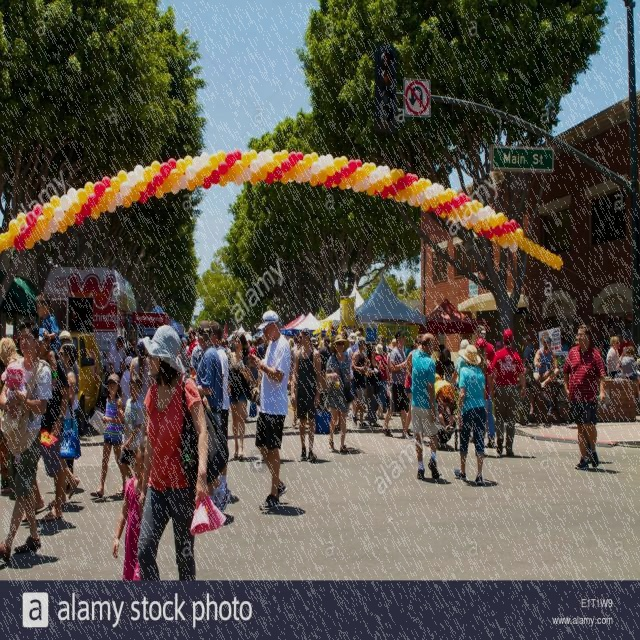pessoa: (136, 326, 210, 582), (0, 319, 53, 566), (20, 326, 70, 524), (248, 309, 296, 512), (194, 322, 232, 514), (562, 324, 607, 474), (112, 440, 152, 582), (47, 343, 81, 509), (563, 328, 601, 465), (410, 332, 444, 482), (452, 342, 487, 484), (89, 373, 128, 498), (489, 329, 526, 456), (207, 320, 232, 504), (290, 327, 322, 464), (322, 332, 354, 456), (379, 328, 414, 440), (226, 333, 252, 462), (194, 326, 224, 430), (118, 375, 146, 481), (219, 334, 266, 396), (473, 324, 496, 444), (528, 334, 560, 420), (35, 292, 62, 392), (129, 337, 152, 442), (350, 338, 372, 431), (404, 334, 423, 440), (474, 339, 494, 436), (364, 344, 382, 428), (288, 333, 302, 428), (0, 362, 28, 405), (431, 388, 456, 433), (374, 343, 388, 420), (386, 346, 401, 417), (104, 335, 125, 385), (606, 334, 628, 380), (281, 334, 296, 398), (450, 339, 470, 385), (432, 343, 455, 383), (120, 355, 136, 406), (177, 324, 192, 376), (0, 337, 24, 367), (593, 331, 609, 373), (622, 346, 640, 380), (344, 330, 362, 364), (317, 336, 333, 374), (346, 400, 368, 426), (256, 326, 270, 361), (186, 328, 199, 362), (522, 334, 534, 368), (616, 332, 632, 356), (311, 328, 327, 352), (124, 338, 140, 360), (558, 334, 572, 356), (376, 334, 388, 359), (400, 339, 416, 357), (606, 327, 616, 355), (58, 330, 73, 344), (382, 342, 390, 366), (490, 338, 502, 352), (309, 336, 319, 349), (340, 329, 348, 339)
